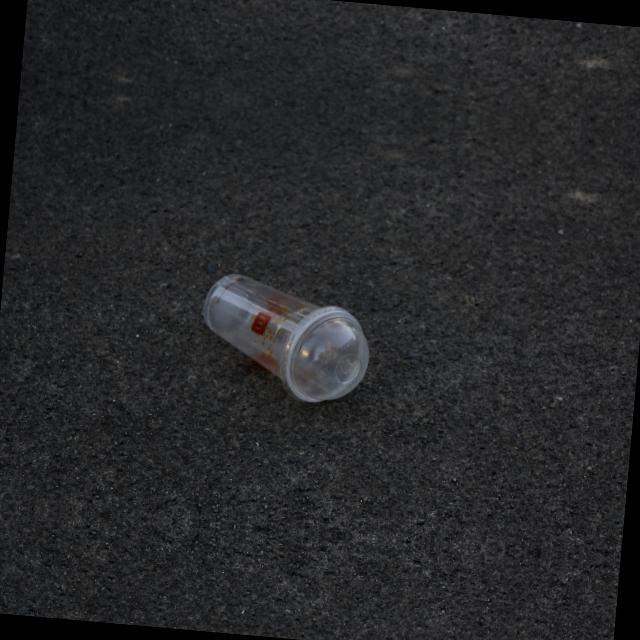Plastic: (195, 269, 376, 406)
